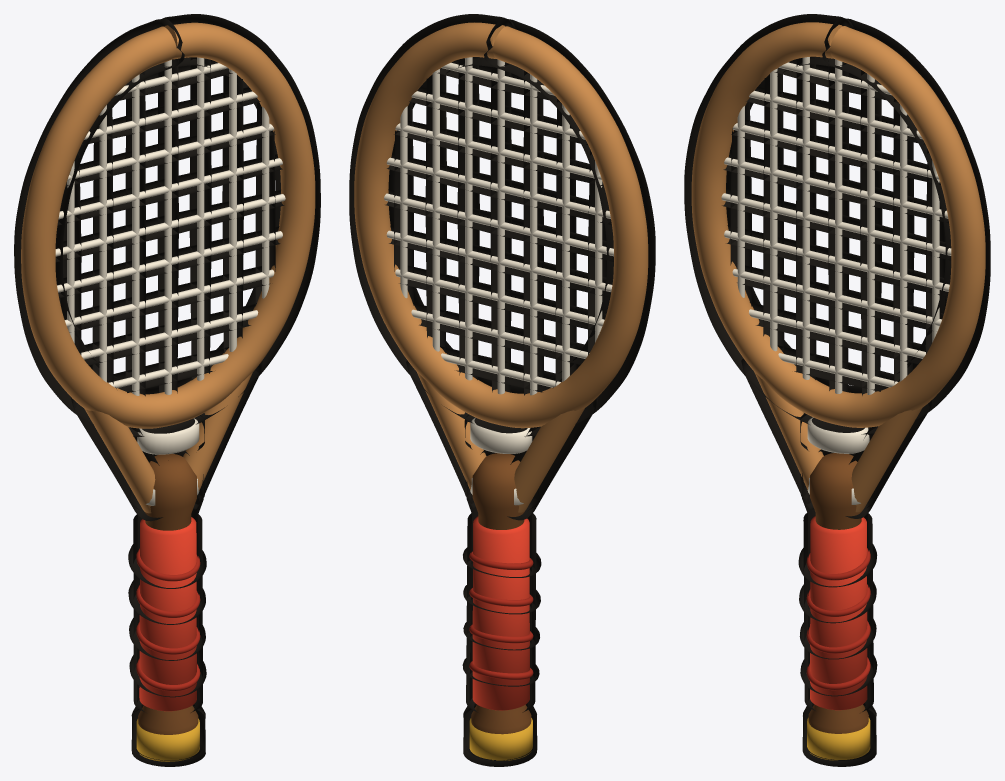
Rendered from tennisracket.glb.
3 views of the same model, side by side, from view 1: azimuth 30°, elevation 25°; view 2: azimuth 150°, elevation 25°; view 3: azimuth 330°, elevation 25° (orthographic).
Visible parts, largest first — view 1: TennisRacket, TennisRacket_outline; view 2: TennisRacket, TennisRacket_outline; view 3: TennisRacket, TennisRacket_outline.
Boxes of the visible parts, bbox=[...] form: TennisRacket: bbox=[21, 22, 315, 761]; TennisRacket_outline: bbox=[14, 14, 320, 766]; TennisRacket: bbox=[354, 22, 648, 760]; TennisRacket_outline: bbox=[349, 14, 655, 766]; TennisRacket: bbox=[691, 22, 985, 760]; TennisRacket_outline: bbox=[684, 14, 990, 766].
Bounding box in the file's own units: 1.2 × 2.83 × 0.2659.
